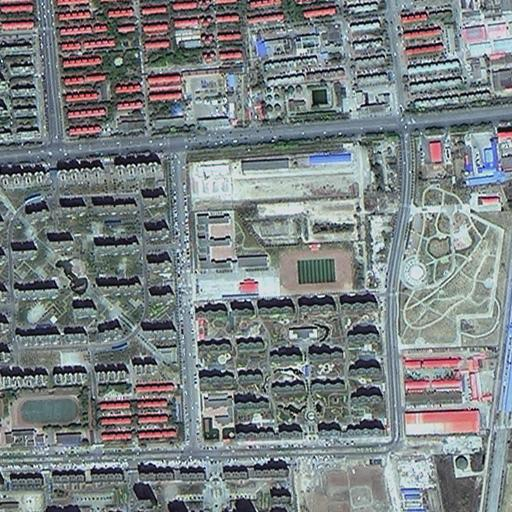school: (191, 210, 362, 295)
